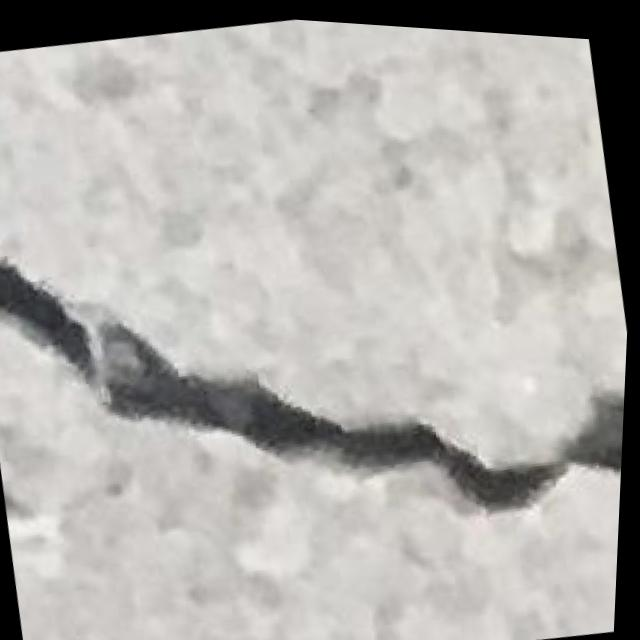Crack: (0, 144, 635, 616)
